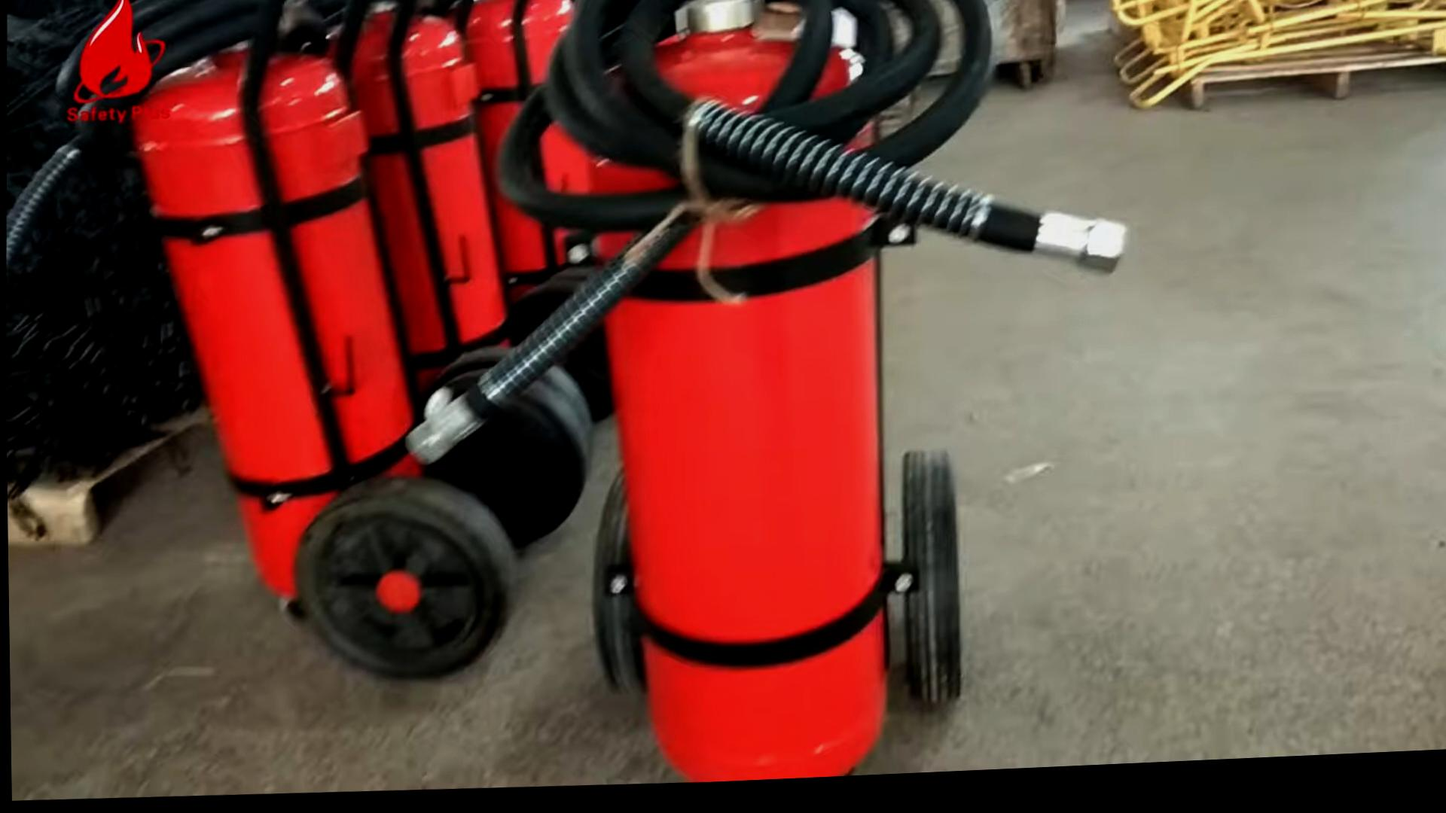FireExtinguisher: (549, 0, 938, 794), (79, 34, 446, 667), (301, 5, 529, 449), (449, 0, 593, 365)
